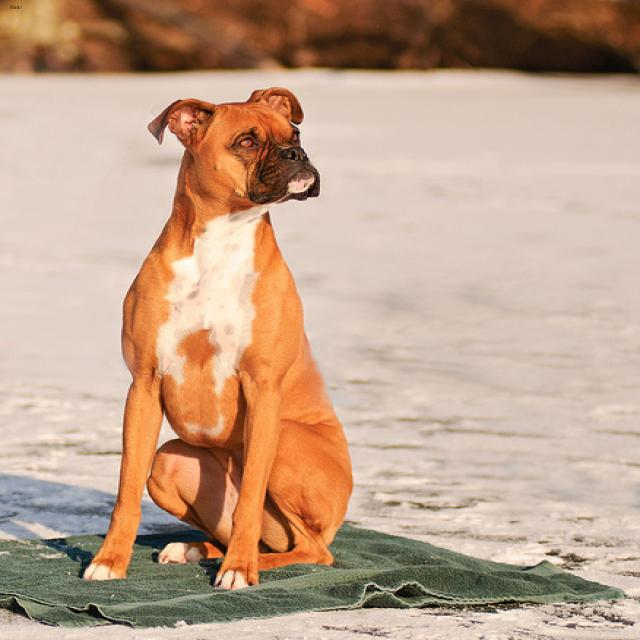dog-boxer: (67, 78, 368, 596)
